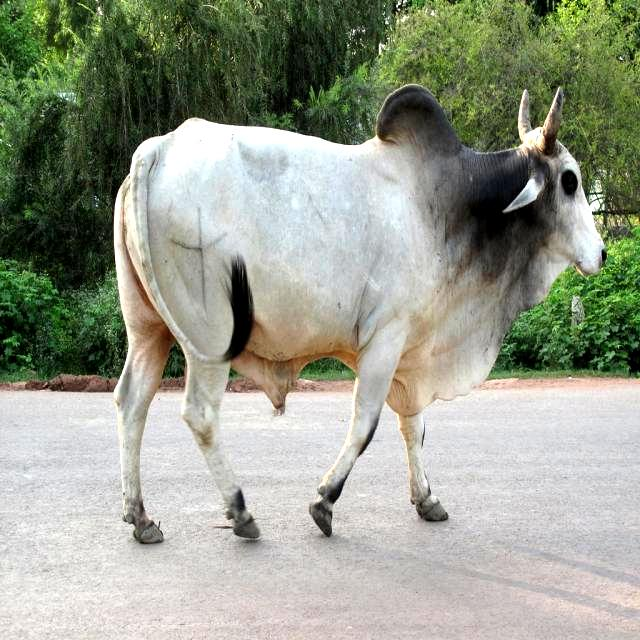COW: (115, 85, 605, 544)
